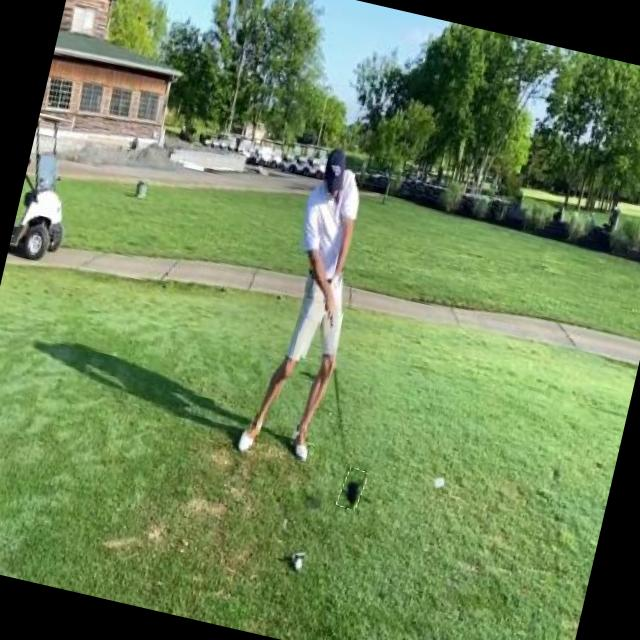club head: (336, 466, 366, 511)
